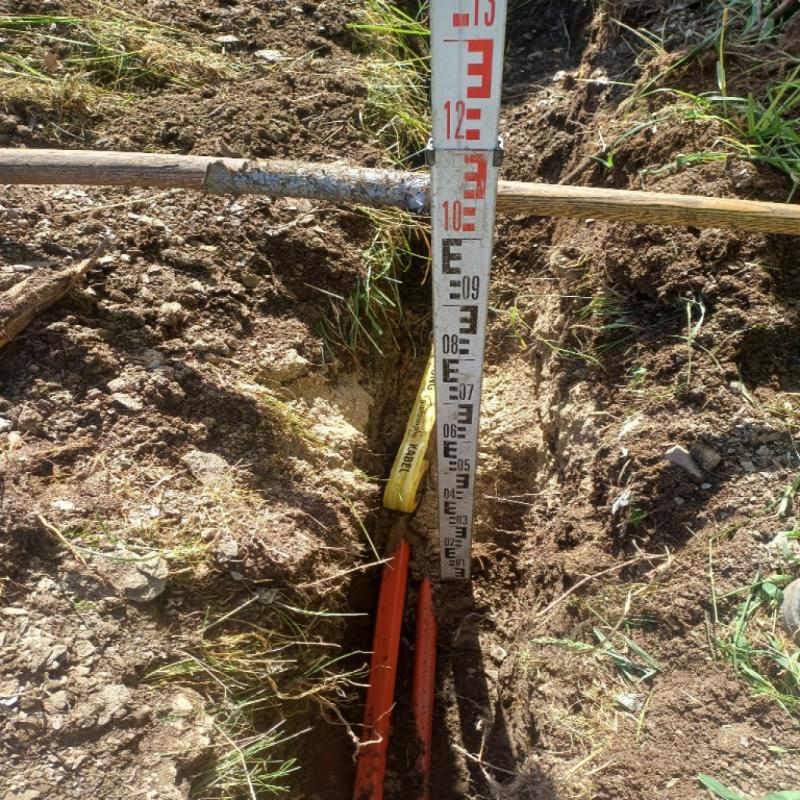Orang-Speednetrohrchen: (351, 547, 410, 800), (413, 577, 440, 800)
